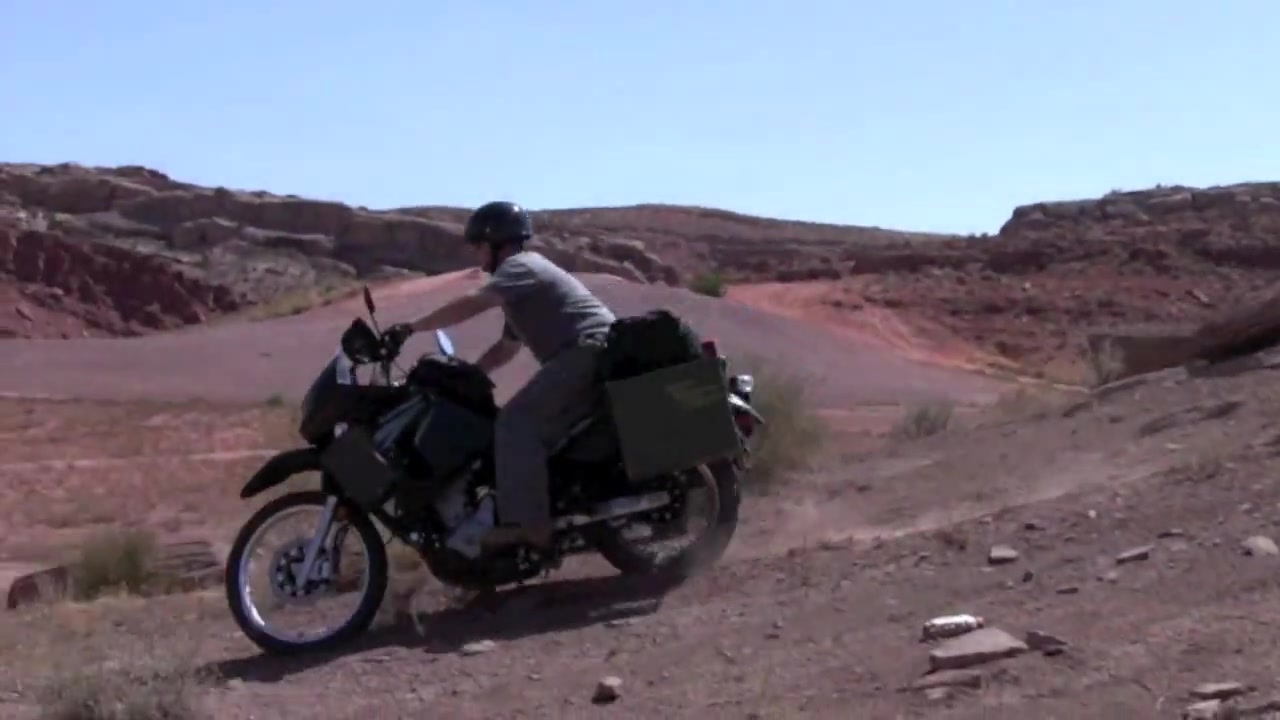motorbike: (224, 285, 769, 661)
